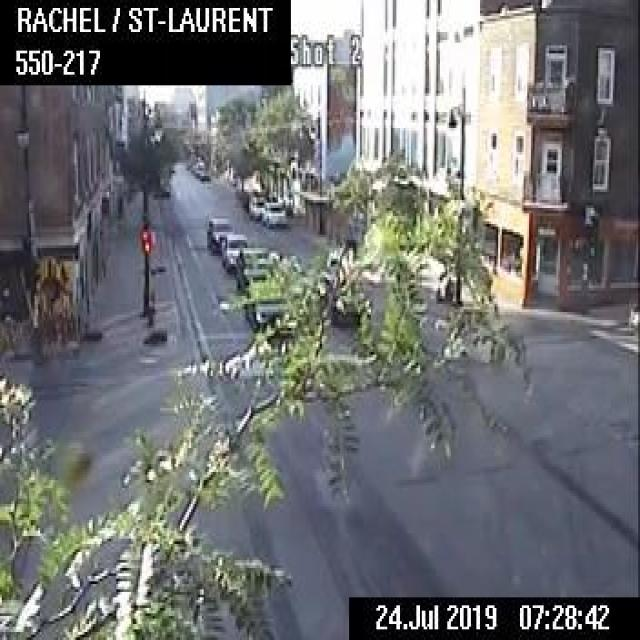vehicle: (249, 290, 297, 335), (328, 279, 369, 321), (236, 247, 272, 286), (219, 232, 248, 273), (206, 217, 232, 248), (261, 200, 286, 226), (246, 193, 268, 218), (199, 169, 210, 179)
